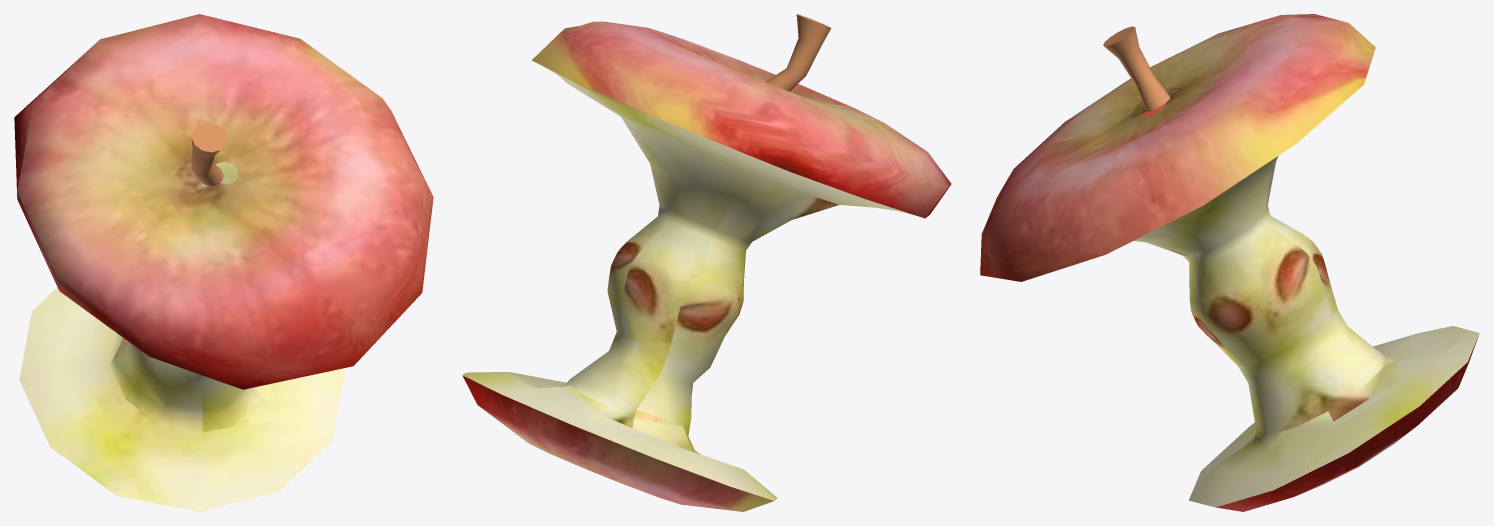
File: bit-apple-transformed.glb
3 renders of one model, left to right at view 1: azimuth 30°, elevation 25°; view 2: azimuth 150°, elevation 25°; view 3: azimuth 270°, elevation 25°, orthographic. The views are drawn at different scales.
Parts seen in each view (by area): view 1: Line002; view 2: Line002; view 3: Line002.
Part boxes in pixels (x1,y1,x2,y2): Line002: (14,14,433,511); Line002: (462,14,951,511); Line002: (980,14,1479,511).
Size of the model in its own units: 2.36 by 2.73 by 2.76.
Materials: 1 (1 with a texture image).
